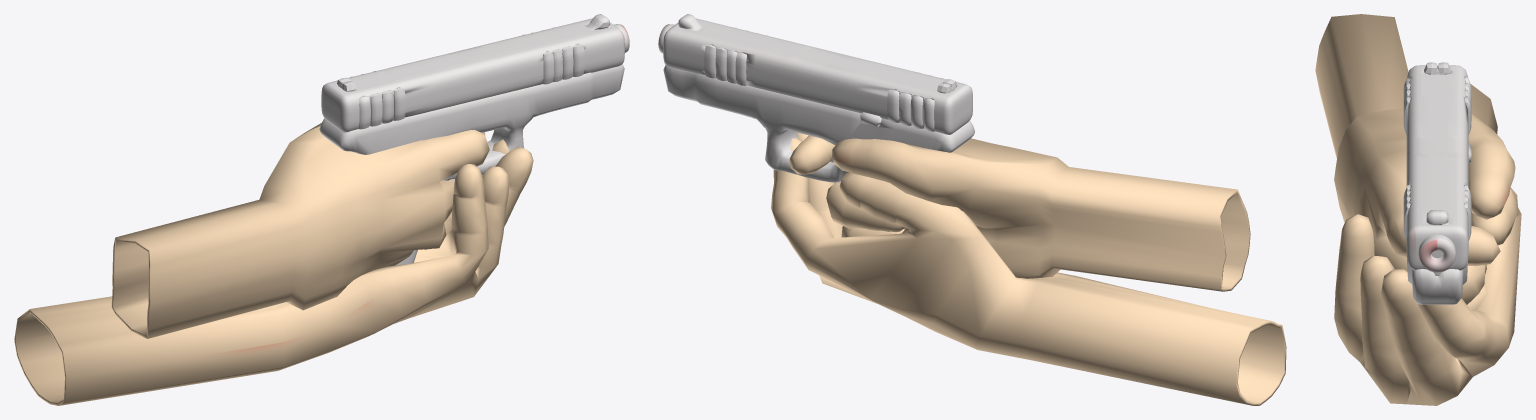
The model's file is fp_hands_outline.glb.
3 renders of one model, left to right at view 1: azimuth 30°, elevation 25°; view 2: azimuth 150°, elevation 25°; view 3: azimuth 270°, elevation 25°, orthographic. The views are drawn at different scales.
Parts seen in each view (by area): view 1: Hands.001; view 2: Hands.001; view 3: Hands.001.
Boxes of the visible parts, x1,y1,x2,y2 form: Hands.001: (14, 14, 629, 405); Hands.001: (658, 14, 1286, 405); Hands.001: (1315, 14, 1521, 405).
Bounding box in the file's own units: 7.75 × 3.25 × 1.96.
1 material, 1 textured.
